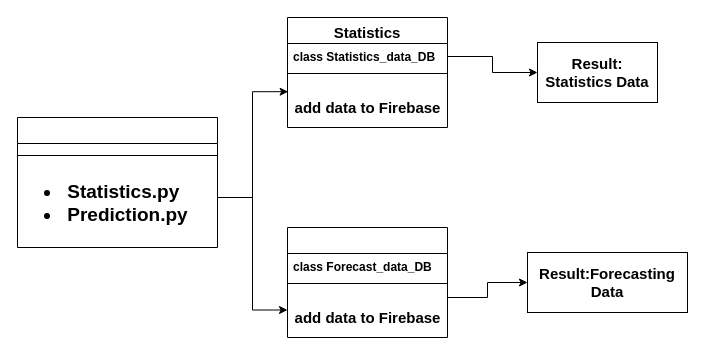
This 705x355 diagram has some shape labels left out. Here are the shapes that lost their labels. From the top down, the box of each, then its label:
(16, 116, 218, 248): Covid-19 Main App
(286, 226, 448, 338): Prediction
